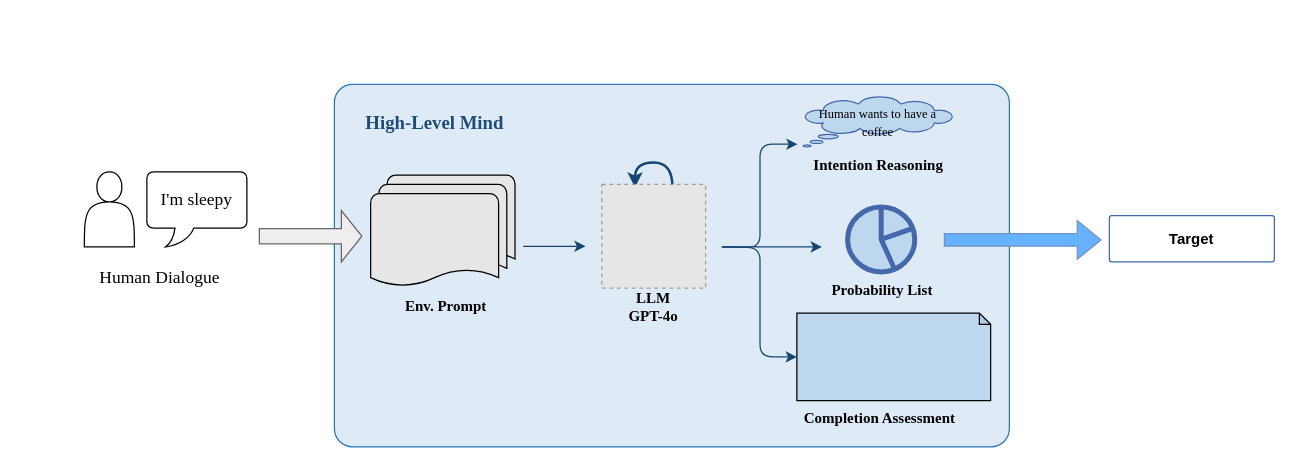
The diagram is 1296 pixels wide and 469 high, and some of its shapes have lost their labels. Grey dashed boxes stand in for pictures. The box of each missing label's shape, as (x1, y1, x2, y2) in pixels:
Human wants to have coffee Yes No: (796, 312, 991, 401)
User states: Env.info.: Intention history: ...: (369, 174, 515, 288)
